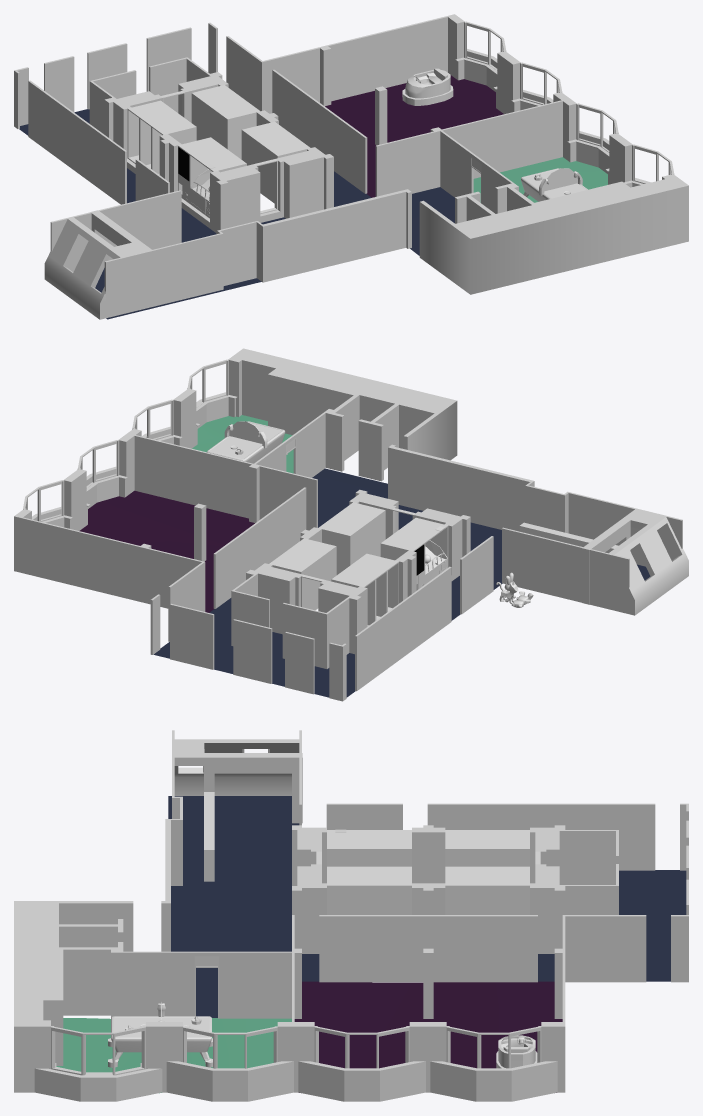
Rendered from whycantibe theoneee.fbx.
3 views of the same model, one above another, from view 1: azimuth 30°, elevation 25°; view 2: azimuth 150°, elevation 25°; view 3: azimuth 270°, elevation 25° (orthographic). The views are drawn at different scales.
Visible parts, largest first — view 1: WRS-Internal Walls (×3), WRS-Outer Walls E, Lightwell Walls, Walls_s, Floor_Studio 3.3, N, WRS-Outer Walls (×2), WRS-Outer Walls s, Floor_Lobby, Lightwell_WindowNE, Lightwell_WindowNW, Lightwell_WindowSE (+10 smaller); view 2: WRS-Internal Walls (×3), WRS-Outer Walls E, Lightwell Walls, Walls_s, N, Floor_Studio 3.3, Floor_Lobby, WRS-Outer Walls (×2), WRS-Outer Walls s, Lightwell_WindowSE, Lightwell_WindowNW, Lightwell_WindowNE (+7 smaller); view 3: WRS-Internal Walls (×3), WRS-Outer Walls (×2), Floor_Lobby, WRS-Outer Walls E, Floor_Studio 3.3, Lightwell Walls, Floor_s, Floor_XR LAB, WRS-Outer Walls s, Lightwell_WindowNE, Lightwell_WindowSE, Lightwell_WindowNW (+10 smaller).
Part boxes in pixels (x1,y1,x2,y2): WRS-Internal Walls (×3): (28, 16, 644, 285); WRS-Outer Walls E: (419, 174, 688, 294); Lightwell Walls: (89, 57, 333, 234); Walls_s: (50, 190, 223, 318); Floor_Studio 3.3: (325, 75, 503, 197); N: (14, 27, 191, 128); WRS-Outer Walls (×2): (447, 14, 650, 184); WRS-Outer Walls s: (44, 216, 151, 319); Floor_Lobby: (19, 109, 454, 287); Lightwell_WindowNE: (191, 85, 259, 159); Lightwell_WindowNW: (127, 100, 196, 174); Lightwell_WindowSE: (241, 121, 310, 203); WRS-Internal Walls (×3): (22, 395, 568, 691); WRS-Outer Walls E: (228, 348, 457, 481); Lightwell Walls: (231, 489, 470, 668); Walls_s: (502, 492, 682, 613); N: (170, 603, 346, 701); Floor_Studio 3.3: (79, 490, 254, 612); Floor_Lobby: (153, 468, 502, 697); WRS-Outer Walls (×2): (14, 388, 225, 572); WRS-Outer Walls s: (607, 509, 688, 615); Lightwell_WindowSE: (318, 502, 385, 574); Lightwell_WindowNW: (331, 553, 398, 626); Lightwell_WindowNE: (269, 538, 336, 610); WRS-Internal Walls (×3): (55, 796, 688, 1075); WRS-Outer Walls (×2): (34, 1022, 565, 1101); Floor_Lobby: (171, 870, 686, 1017); WRS-Outer Walls E: (14, 901, 133, 1092); Floor_Studio 3.3: (294, 981, 562, 1092); Lightwell Walls: (292, 825, 618, 953); Floor_s: (168, 796, 299, 869); Floor_XR LAB: (56, 1018, 291, 1093); WRS-Outer Walls s: (174, 739, 301, 795); Lightwell_WindowNE: (445, 866, 529, 914); Lightwell_WindowSE: (327, 866, 411, 914); Lightwell_WindowNW: (445, 830, 529, 866).
Size of the model in its own units: 1050 by 108 by 969.
